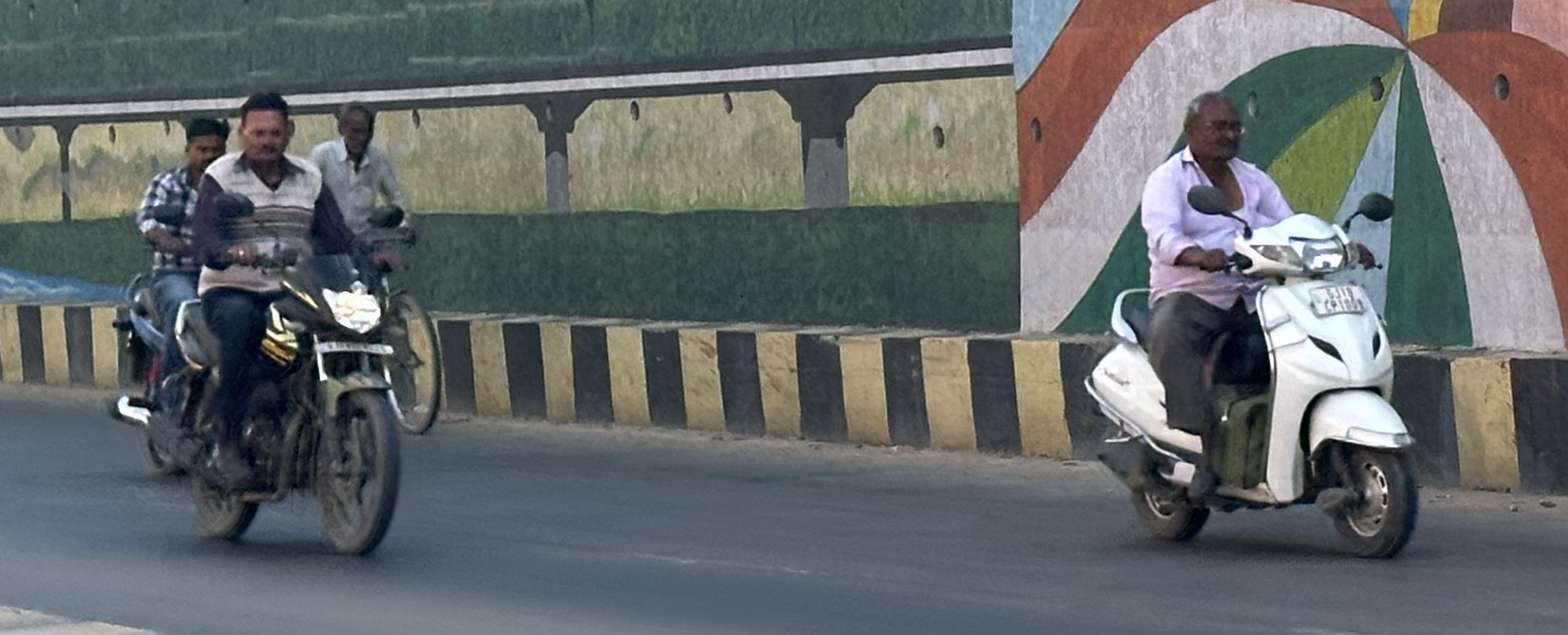BikeWithRider: (1068, 80, 1437, 566), (97, 84, 423, 564), (284, 91, 451, 442)
NoHelmet: (1171, 85, 1258, 167), (227, 86, 302, 166), (171, 110, 237, 178), (324, 96, 386, 162)
